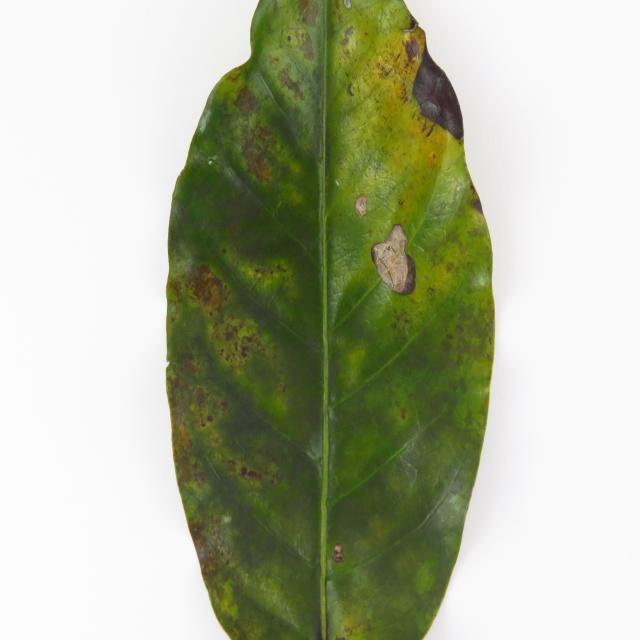DeficienciaNutricional-Potasio: (166, 2, 494, 638)
